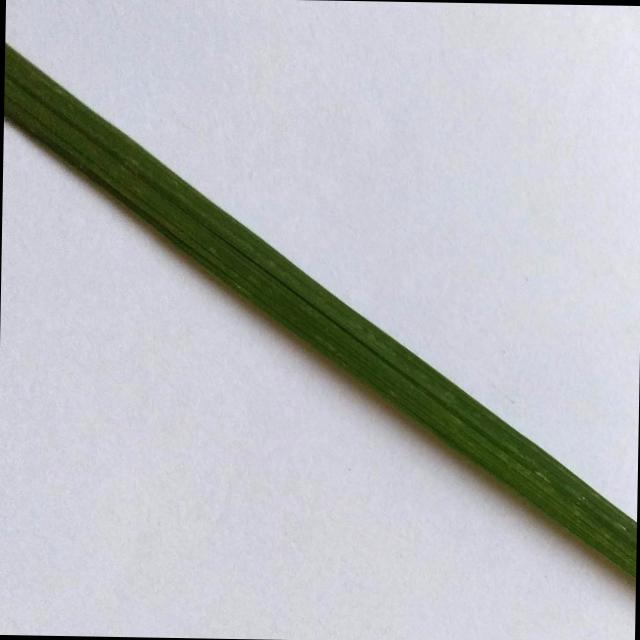Rice_Healthy: (4, 43, 636, 577)
